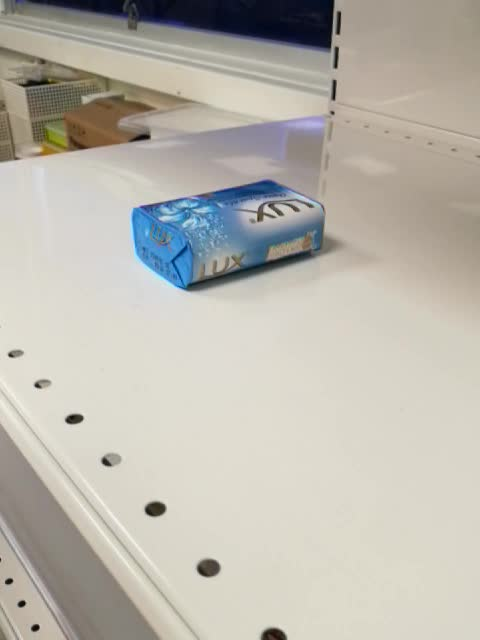soap: (130, 179, 327, 290)
